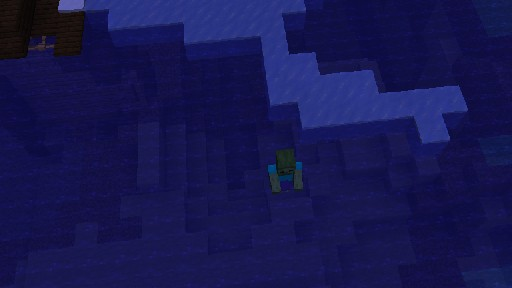zombie: (266, 147, 303, 194)
